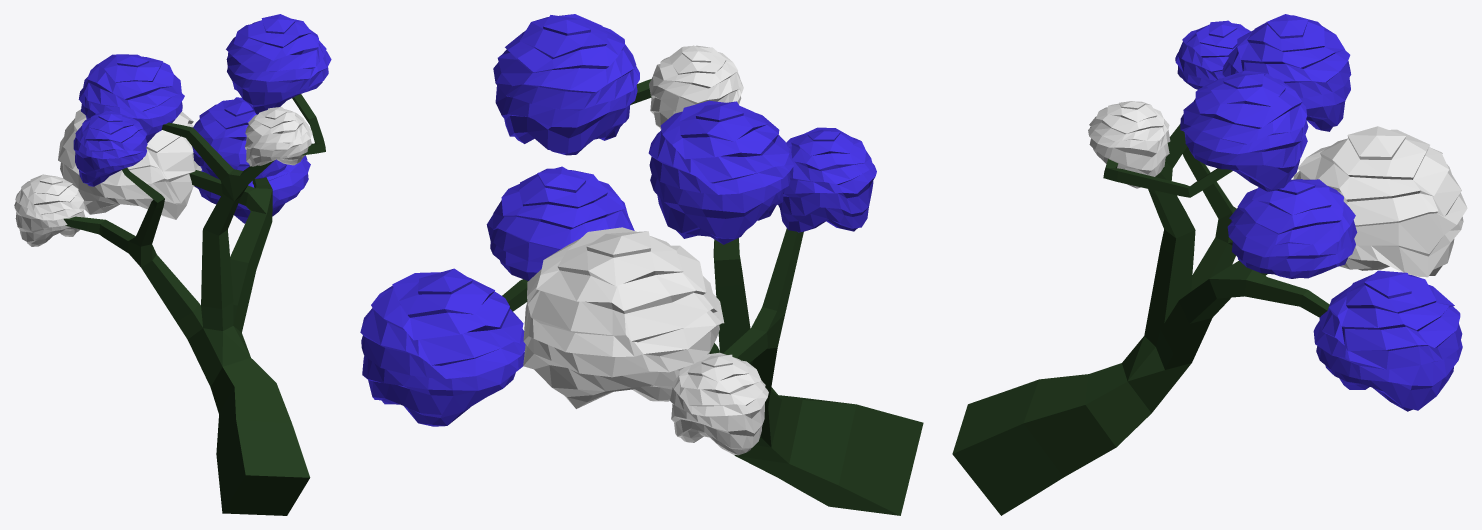
The model's file is tree.fbx.
The picture shows the model from 3 angles, left to right: view 1: azimuth 30°, elevation 25°; view 2: azimuth 150°, elevation 25°; view 3: azimuth 270°, elevation 25°; orthographic projection. The views are drawn at different scales.
Visible parts, largest first — view 1: Icosphere.006, Cube.009; view 2: Icosphere.006, Cube.009; view 3: Icosphere.006, Cube.009.
Part boxes in pixels (x1,y1,x2,y2): Icosphere.006: (14, 14, 331, 246); Cube.009: (63, 94, 325, 515); Icosphere.006: (360, 14, 876, 455); Cube.009: (502, 79, 923, 515); Icosphere.006: (1088, 14, 1467, 411); Cube.009: (952, 124, 1329, 515).
Bounding box in the file's own units: 2073 × 2739 × 2587.
